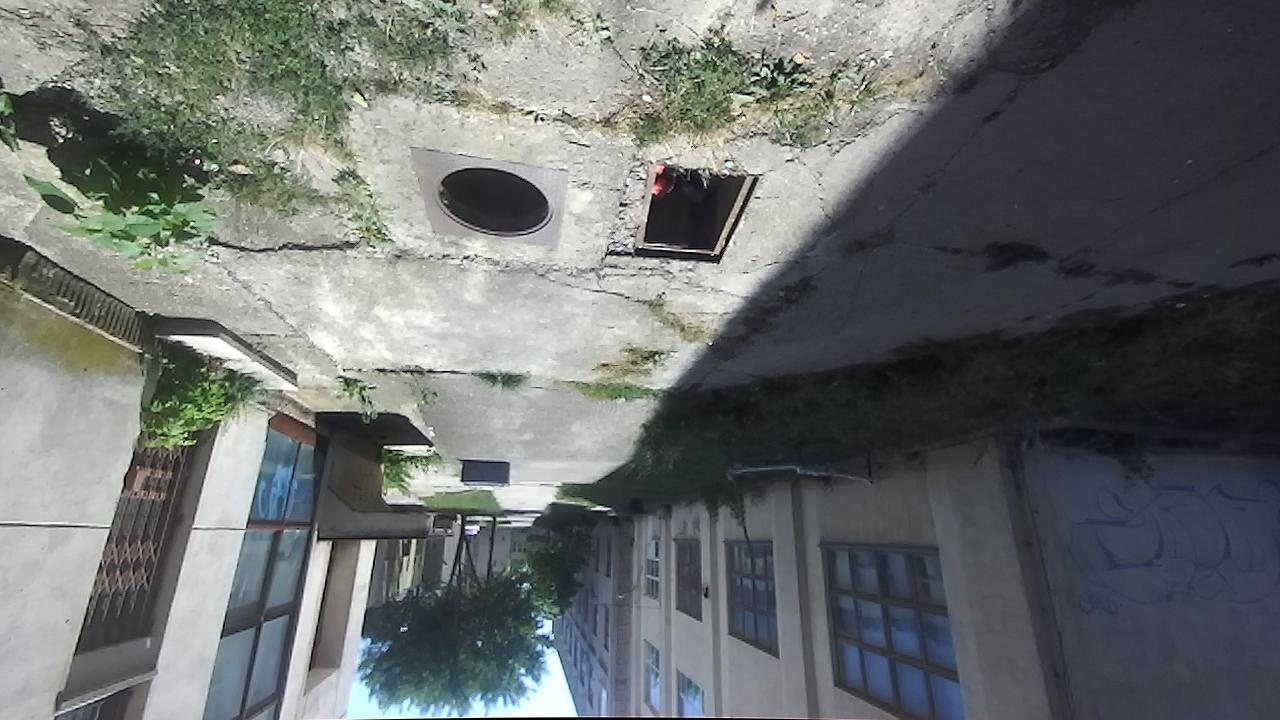drain: (624, 164, 769, 267), (436, 163, 560, 237)
